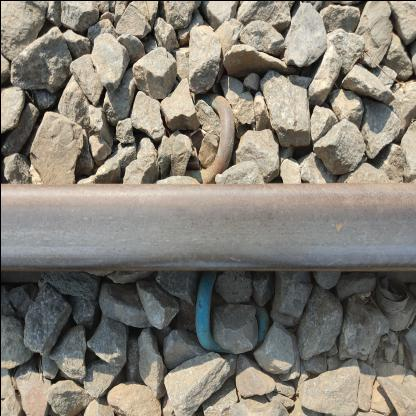Non Defective 1: (109, 34, 238, 190)
